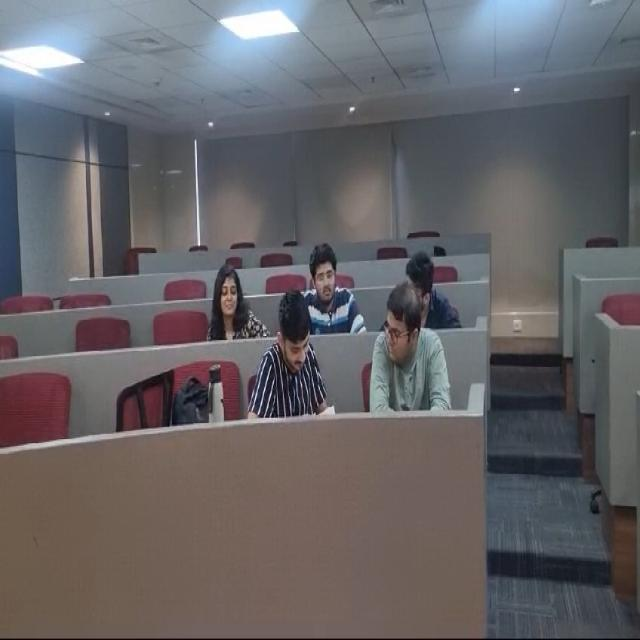cheating: (247, 290, 321, 440), (369, 279, 443, 419), (298, 232, 359, 338), (398, 234, 458, 314), (205, 248, 251, 342)
